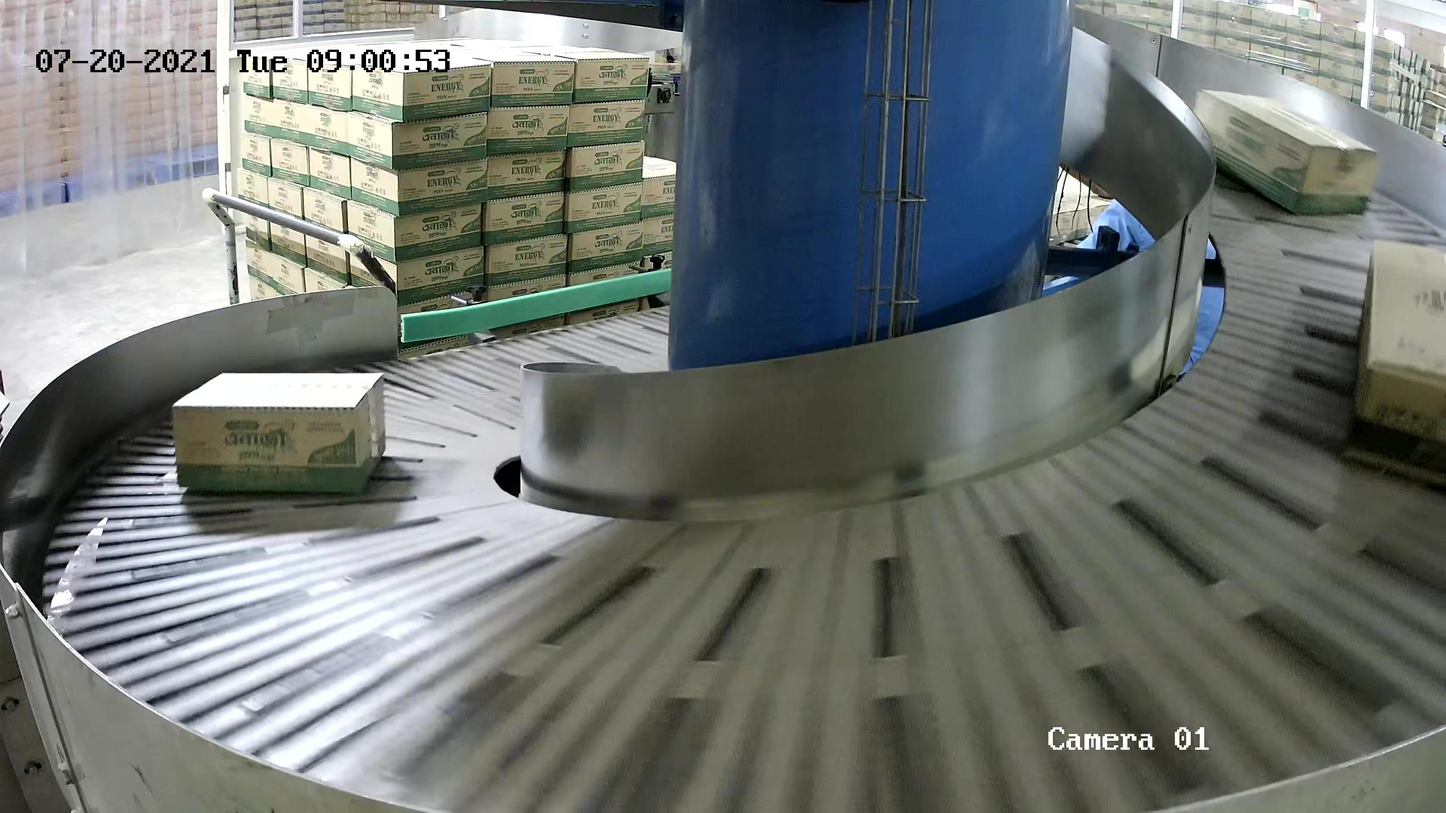Box: (171, 370, 386, 497), (1344, 237, 1446, 487), (1191, 87, 1379, 218)
